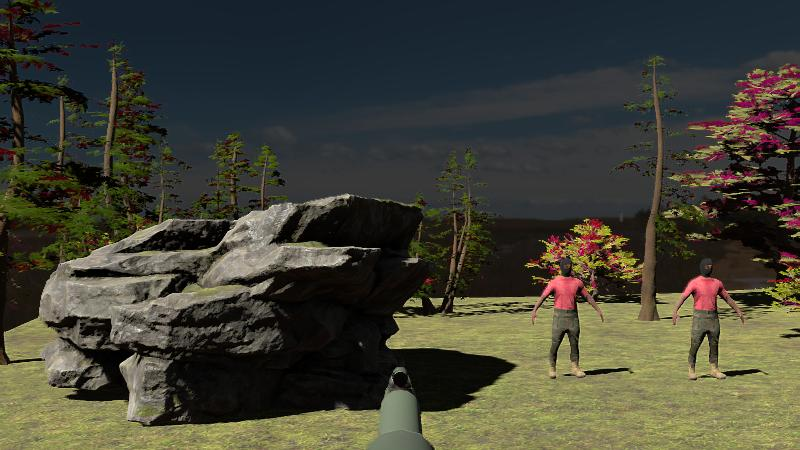Human: (531, 257, 603, 380), (672, 257, 743, 381)
